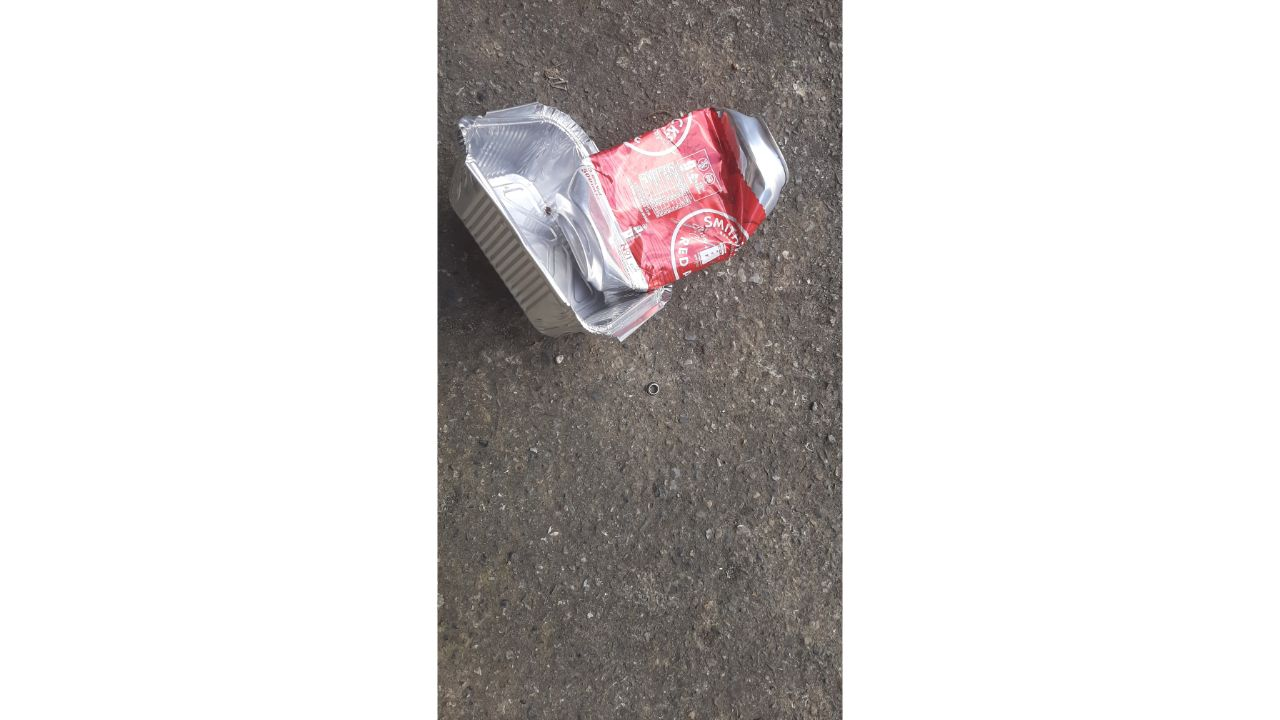Can: (548, 95, 802, 299)
